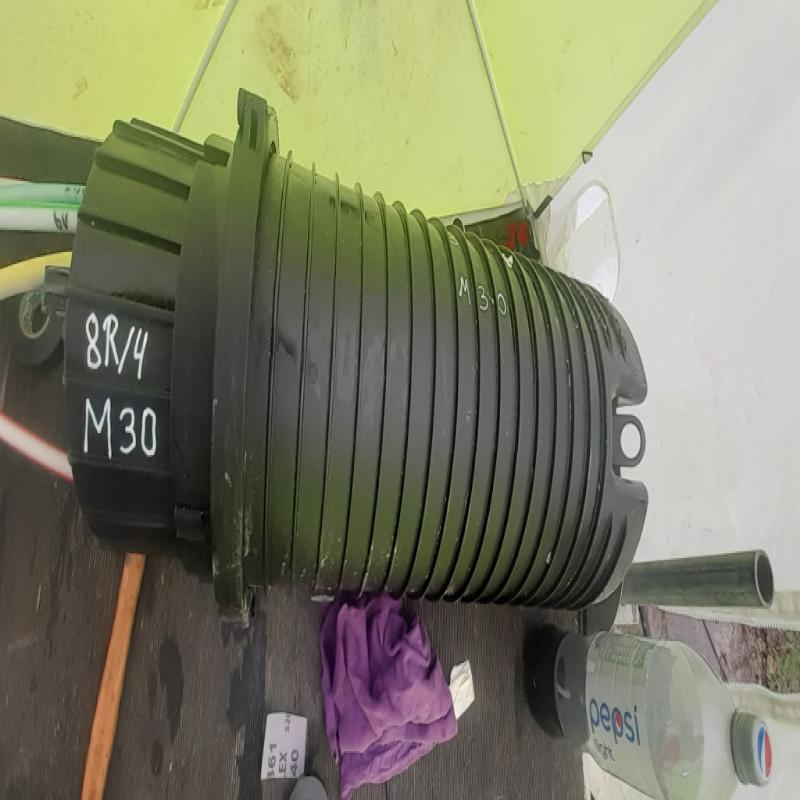NT-Muffen: (57, 91, 663, 620)
